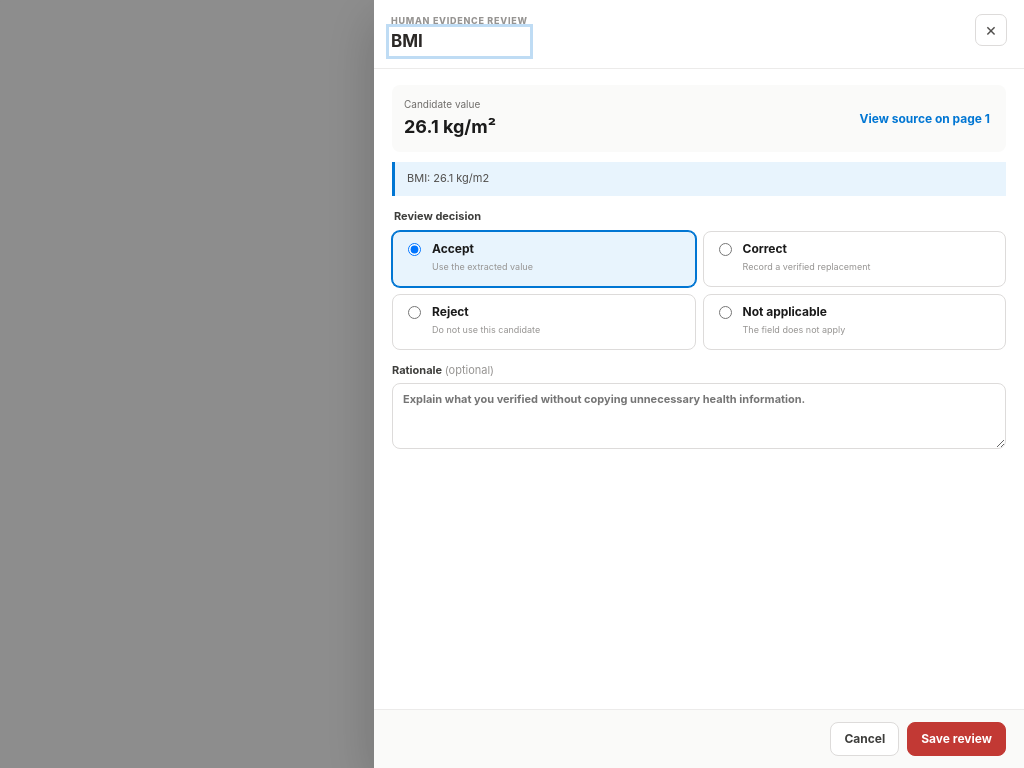
review dialog › requires rationale and sends the expected version for a correction
This screenshot has width=1024, height=768.
Later steps or results of the test are not shown.
Click the radio button labelled "Correct Record a verified replacement": x=725, y=250 [718,243,732,256]
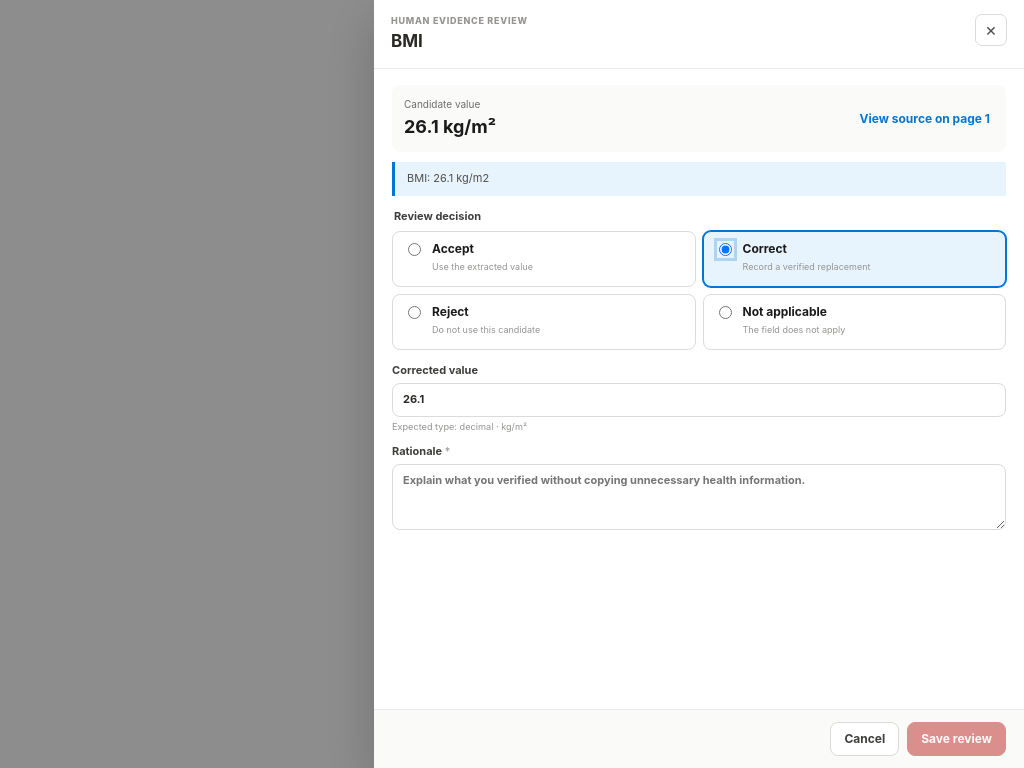
Check: the button "Save review" is disabled, box [907,722,1006,756]
Replace the text in the field labelled "Corrected value Expected type: decimal · kg/m²" with "26.2": x=699, y=400 [392,383,1006,417]
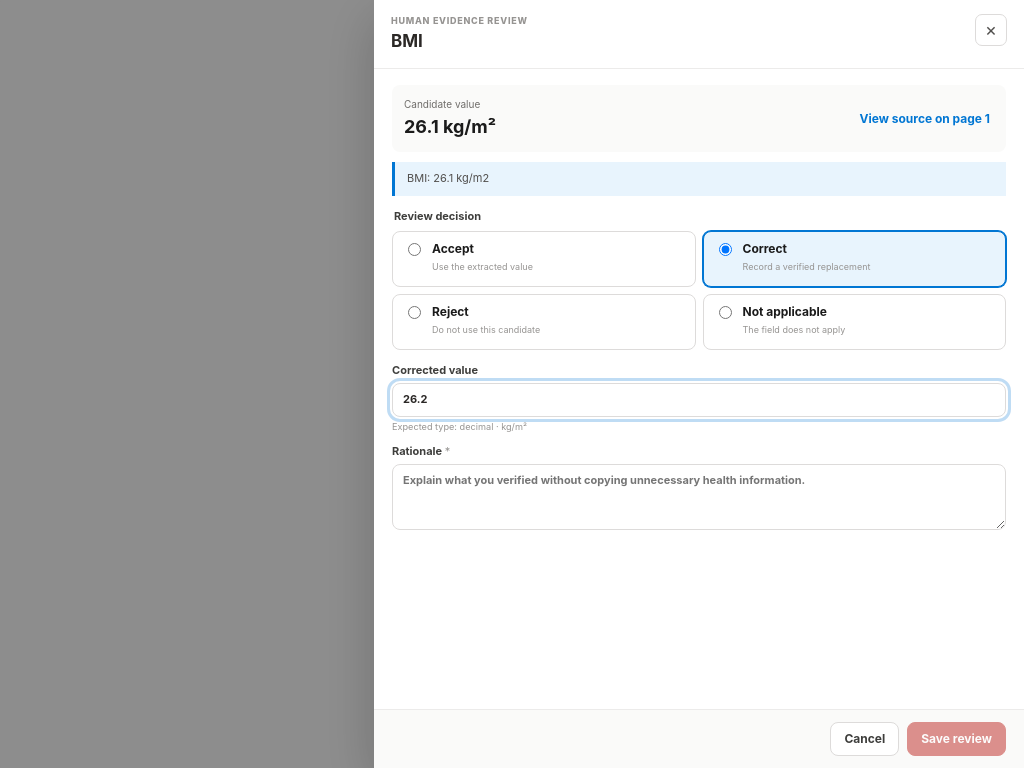
In the text box labelled "Rationale *": x=699, y=497 [392,464,1006,530], type "Verified source."
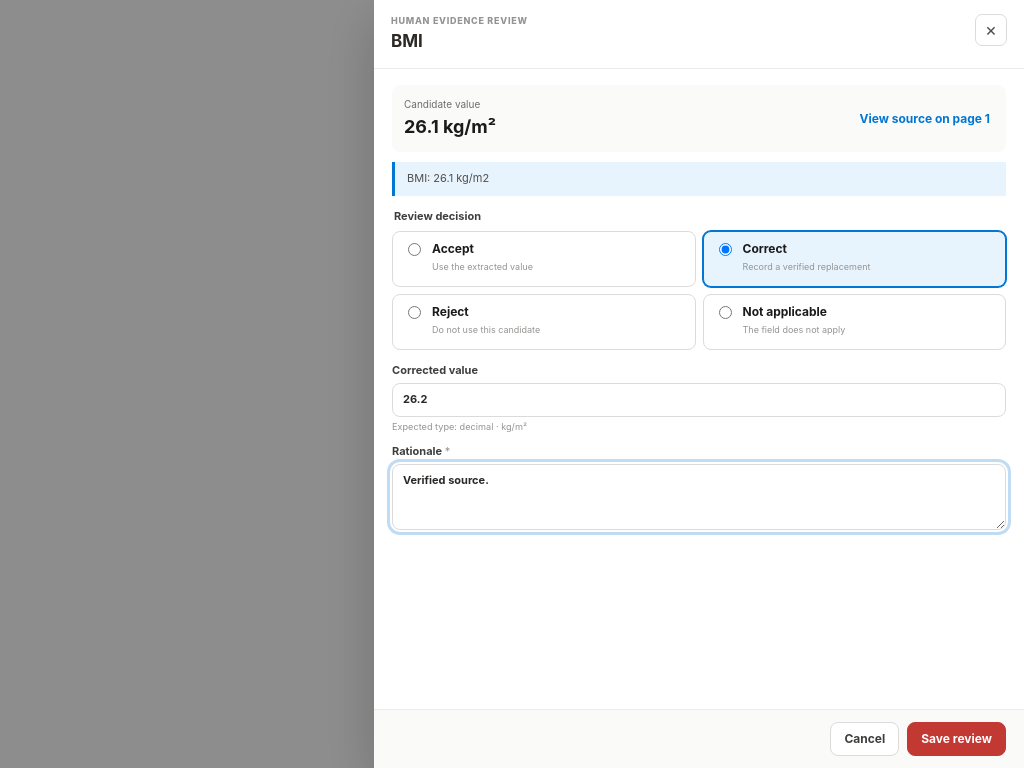
Check: the button "Save review" is enabled, box [907,722,1006,756]
